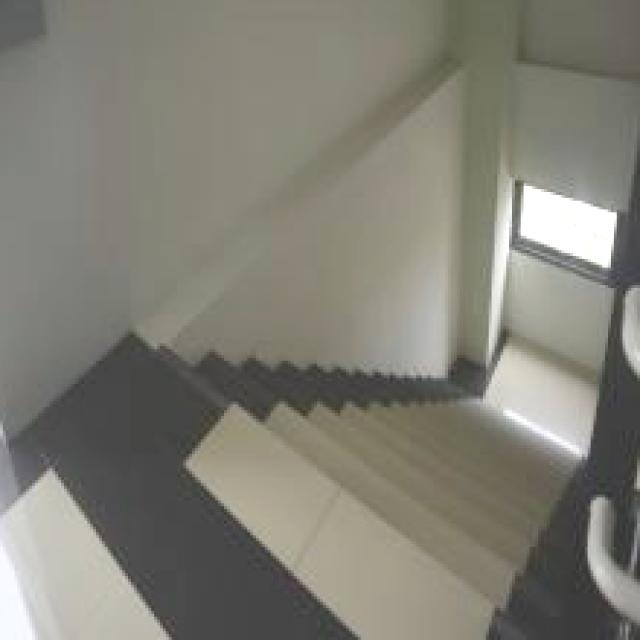downstair: (210, 359, 583, 640)
